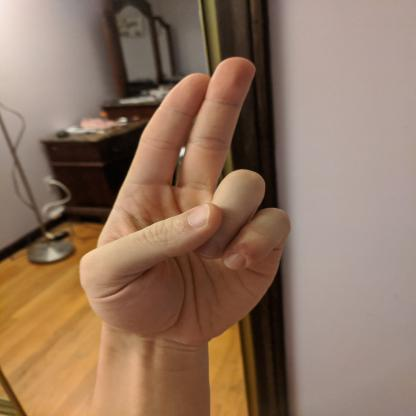U: (76, 53, 296, 348)
